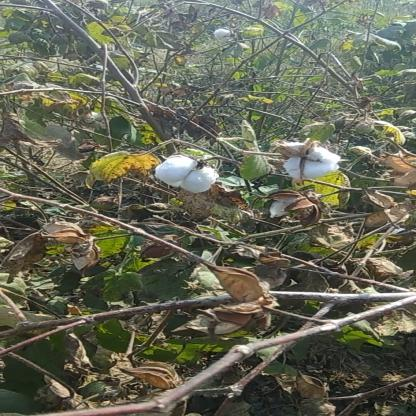cotton_ready: (153, 154, 230, 210), (278, 133, 344, 193)
